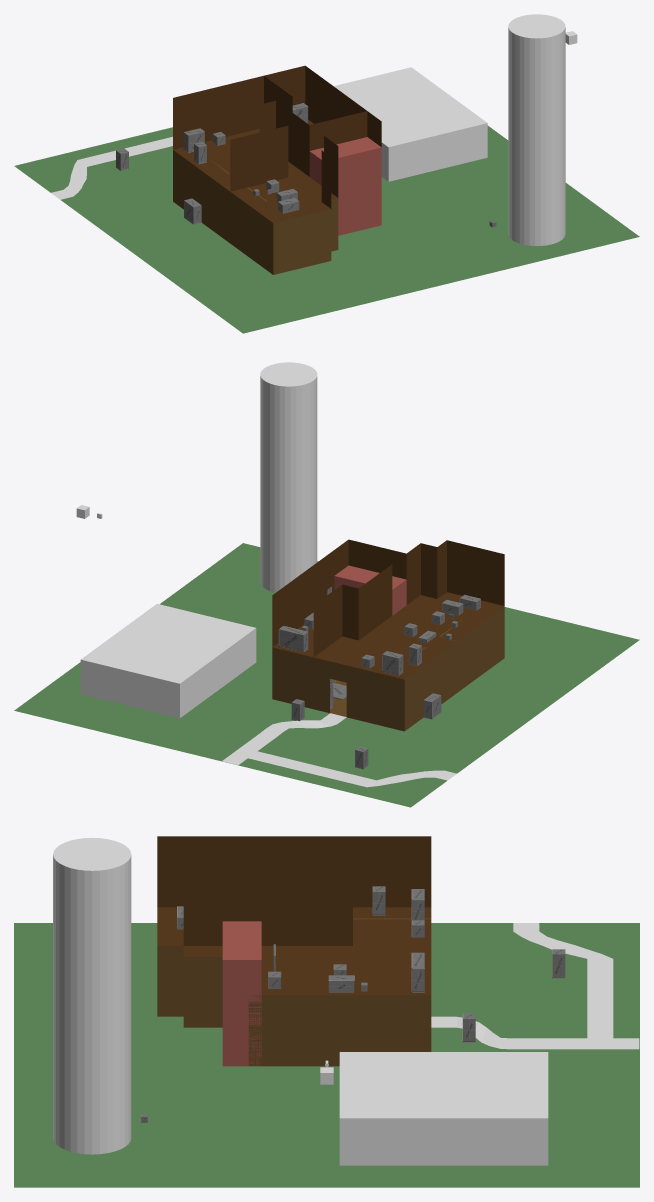
Rendered from Grundstueck.glb.
3 renders of one model, top to bottom at view 1: azimuth 30°, elevation 25°; view 2: azimuth 150°, elevation 25°; view 3: azimuth 270°, elevation 25°, orthographic. The views are drawn at different scales.
Visible parts, largest first — view 1: !Garden Plane, !Second Floor Plane, Baum, Schuppen, !Ground Plane, Staircase, Gehweg; view 2: !Garden Plane, !Second Floor Plane, Schuppen, Baum, !Ground Plane, Gehweg, Staircase, BÜCHERREGAL; view 3: !Garden Plane, !Second Floor Plane, Baum, Schuppen, !Ground Plane, Gehweg, Staircase, BÜCHERREGAL.
Part boxes in pixels (x1,y1,x2,y2): !Garden Plane: (14,125,639,333); !Second Floor Plane: (173,65,381,222); Baum: (508,14,565,245); Schuppen: (334,67,487,181); !Ground Plane: (173,150,338,274); Staircase: (309,137,381,235); Gehweg: (51,136,172,199); !Garden Plane: (14,543,639,807); !Second Floor Plane: (272,539,504,679); Schuppen: (80,603,256,718); Baum: (260,362,317,592); !Ground Plane: (272,606,504,731); Gehweg: (222,713,456,787); Staircase: (334,565,406,615); BÜCHERREGAL: (278,626,308,652); !Garden Plane: (14,923,639,1187); !Second Floor Plane: (157,836,431,995); Baum: (53,837,131,1154); Schuppen: (339,1052,548,1165); !Ground Plane: (157,918,431,1066); Gehweg: (431,923,639,1049); Staircase: (222,921,261,1066); BÜCHERREGAL: (411,952,424,992).
Bounding box in the file's own units: 54 × 30 × 48.
Materials: 50 (45 with a texture image).
